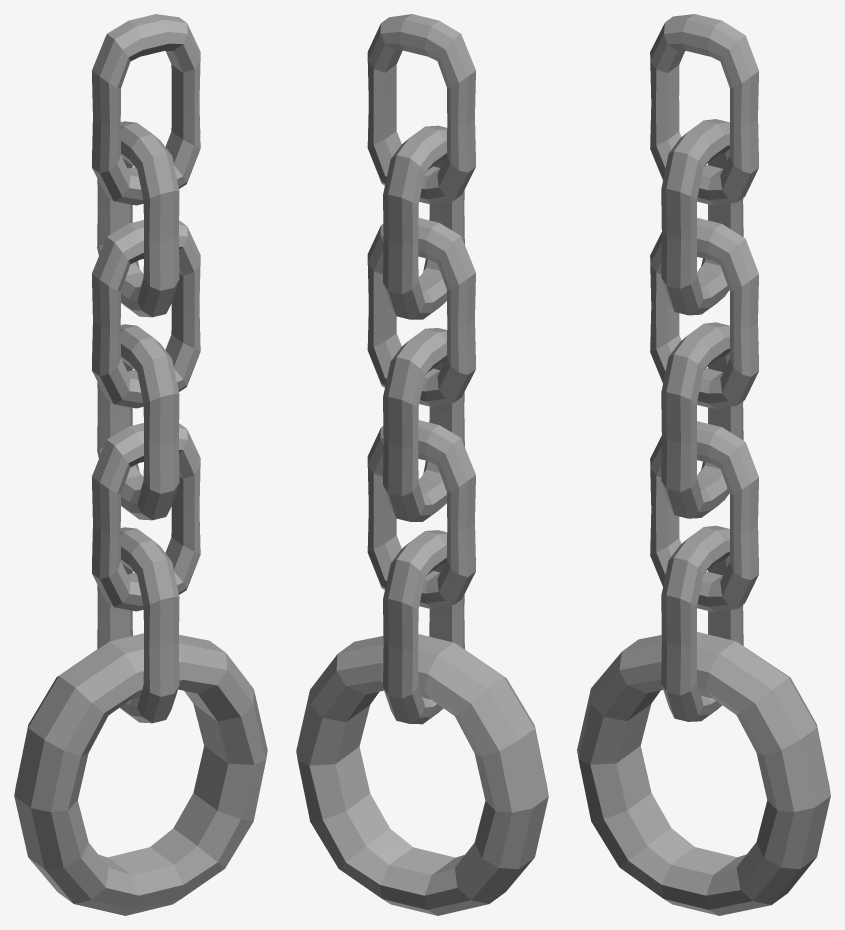
The model's file is chain.glb.
The picture shows the model from 3 angles, left to right: view 1: azimuth 30°, elevation 25°; view 2: azimuth 150°, elevation 25°; view 3: azimuth 330°, elevation 25°; orthographic projection.
Visible parts, largest first — view 1: chain, hoop; view 2: chain, hoop; view 3: chain, hoop.
Part boxes in pixels (bbox=[...]): chain: bbox=[91, 14, 200, 723]; hoop: bbox=[14, 633, 267, 915]; chain: bbox=[367, 14, 475, 724]; hoop: bbox=[296, 634, 548, 915]; chain: bbox=[650, 14, 758, 721]; hoop: bbox=[577, 632, 830, 915].
Size of the model in its own units: 0.1944 by 0.6939 by 0.0828.
1 material, 1 textured.
